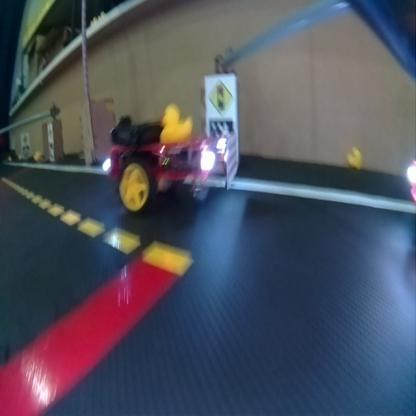Duckie: (163, 108, 191, 140), (346, 148, 362, 167)
Duckiebot: (106, 118, 236, 203)
Signal sign: (205, 74, 236, 113)
